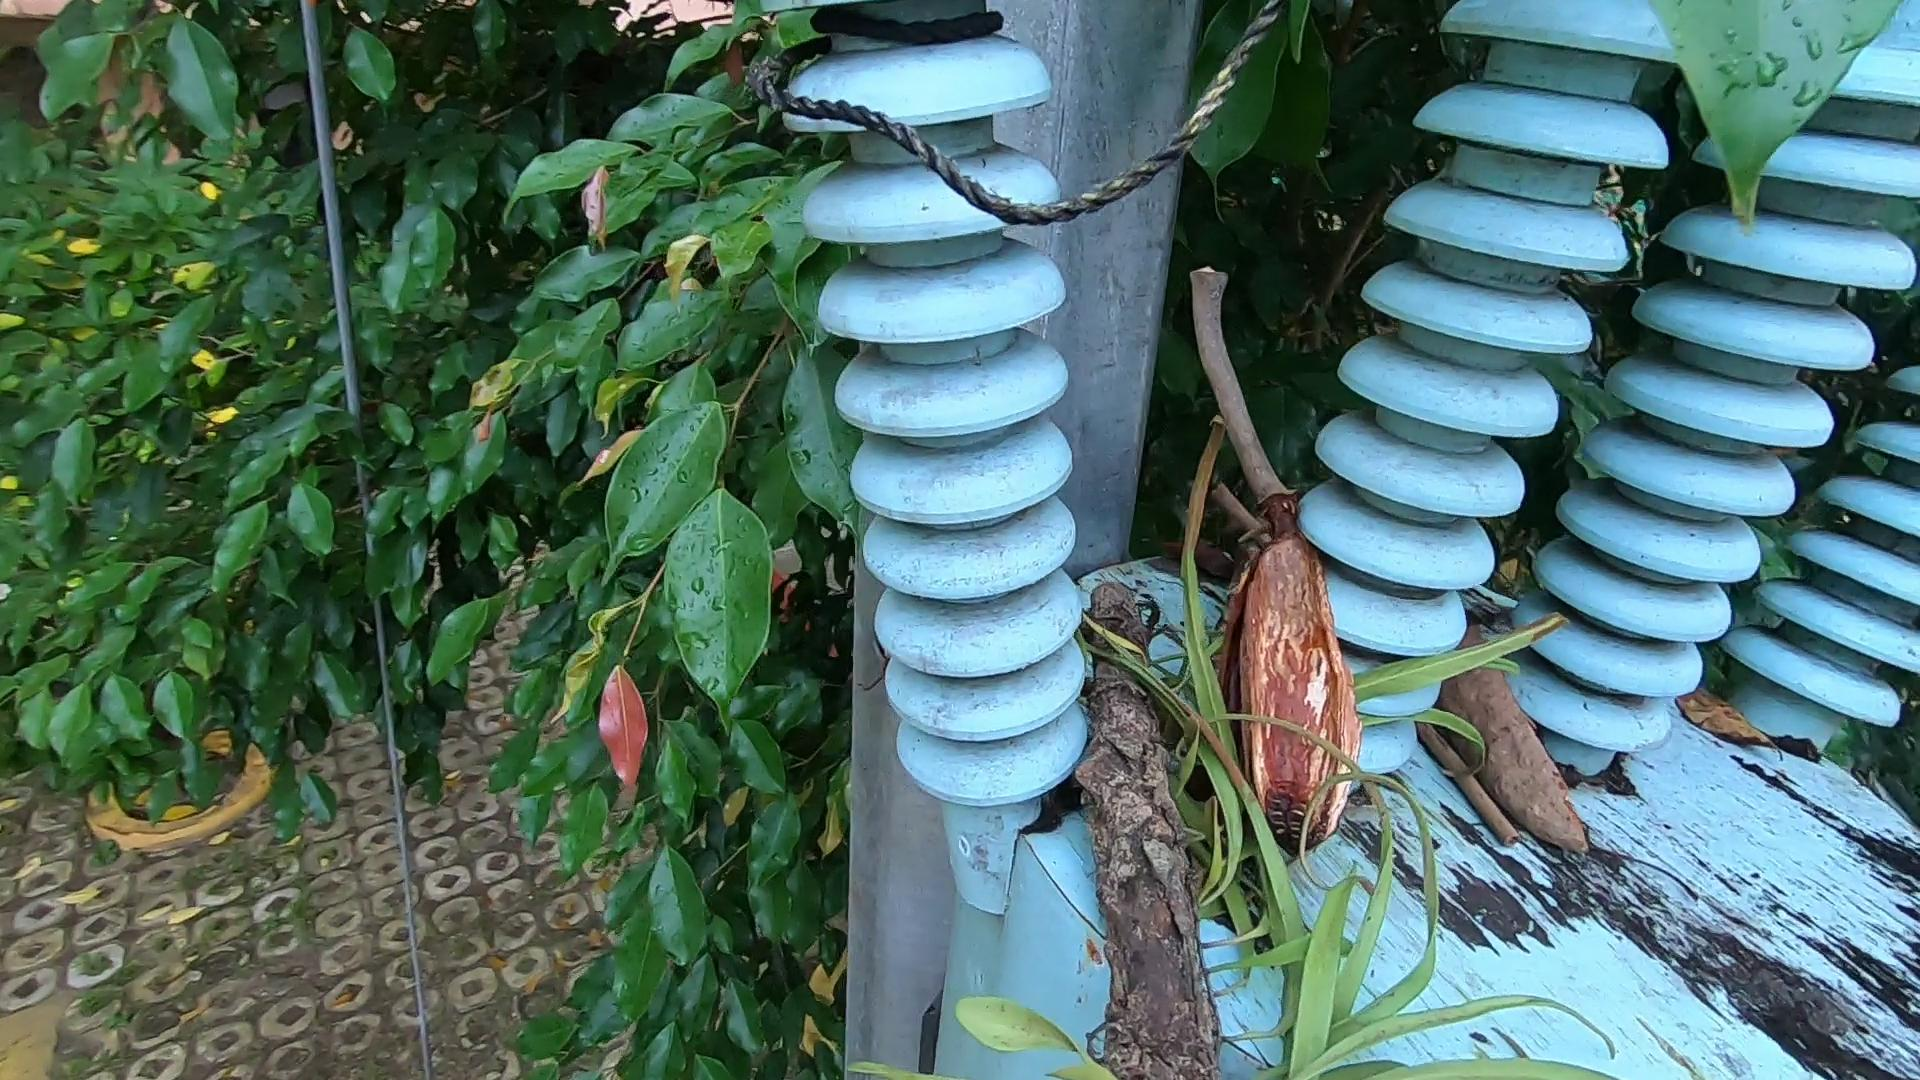branch with leaves: (1044, 419, 1642, 1080)
leaf: (1677, 667, 1807, 756)
mahogany fruit: (1187, 465, 1371, 876), (1429, 584, 1582, 884)
tree branch: (1168, 244, 1381, 855), (1416, 696, 1531, 849), (1204, 483, 1278, 545)
